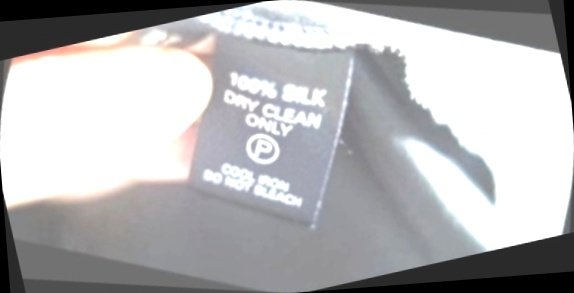dry_clean_any_solvent_except_trichloroethylene: (226, 111, 302, 185)
